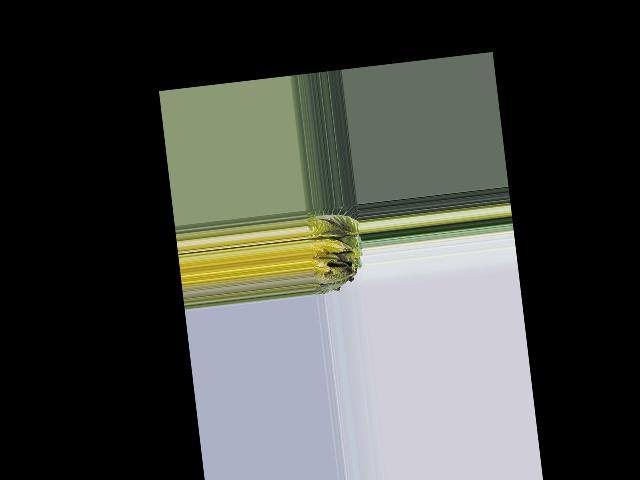lettuce: (305, 204, 365, 292)
